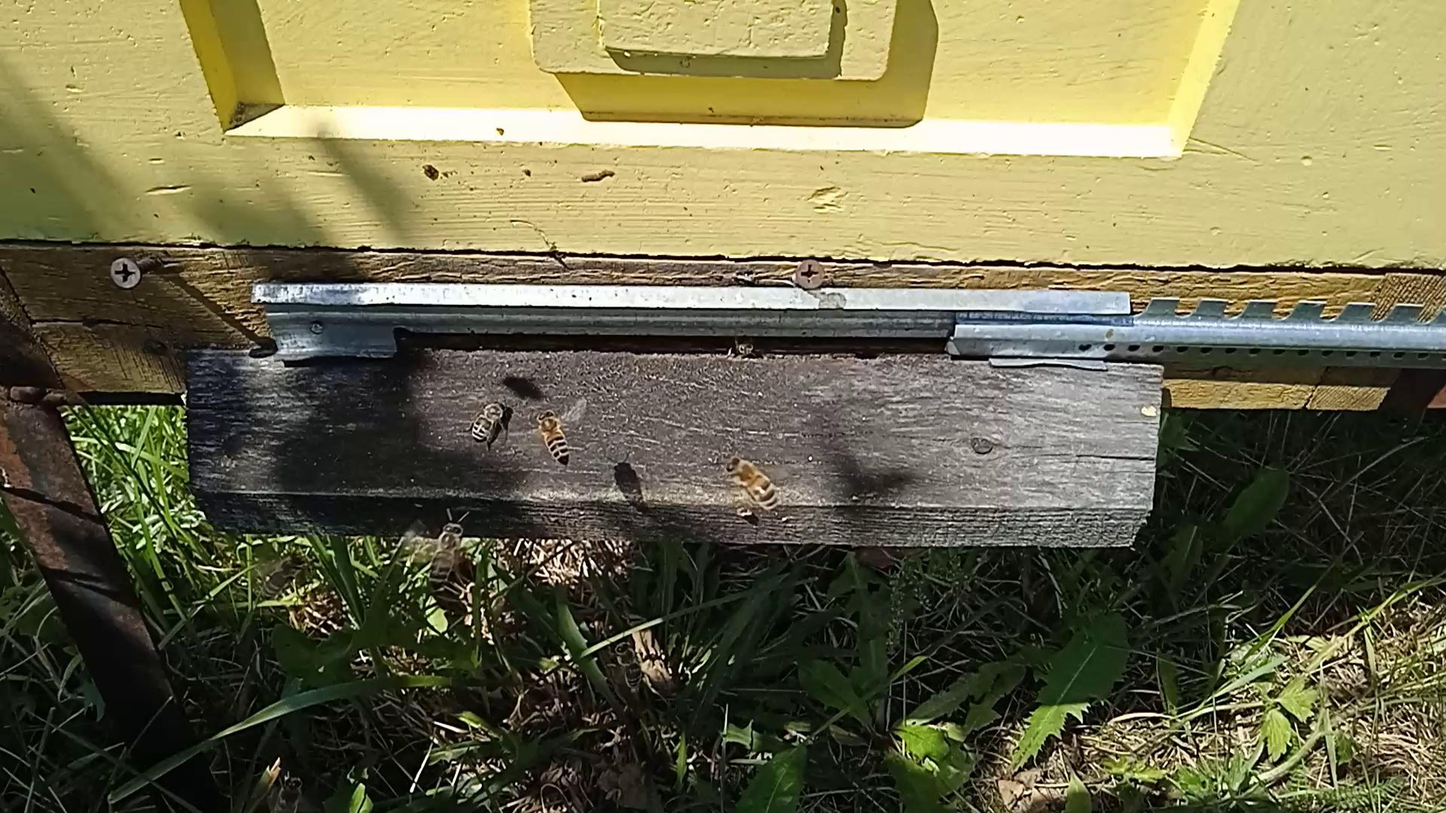worker-bee: (724, 455, 780, 511), (429, 522, 465, 589), (259, 555, 305, 599), (536, 409, 572, 465), (470, 398, 508, 442), (615, 641, 642, 689), (273, 775, 305, 813), (730, 335, 757, 358)
